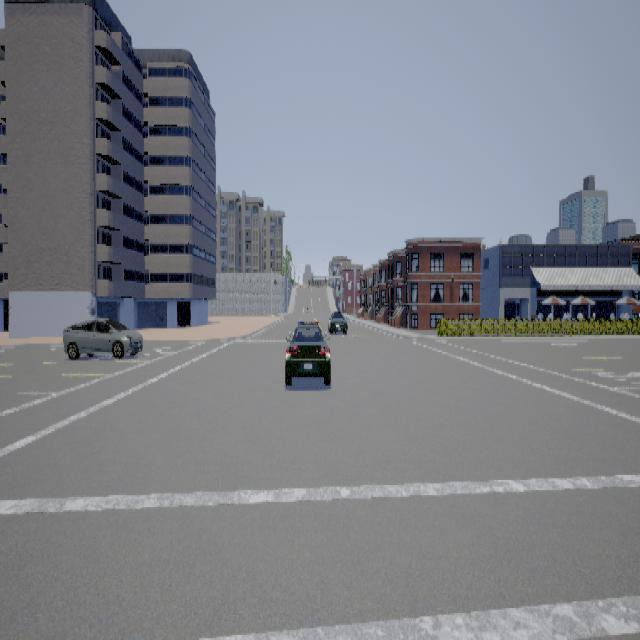vehicle: (64, 316, 144, 358), (286, 320, 332, 384), (329, 308, 350, 335)
